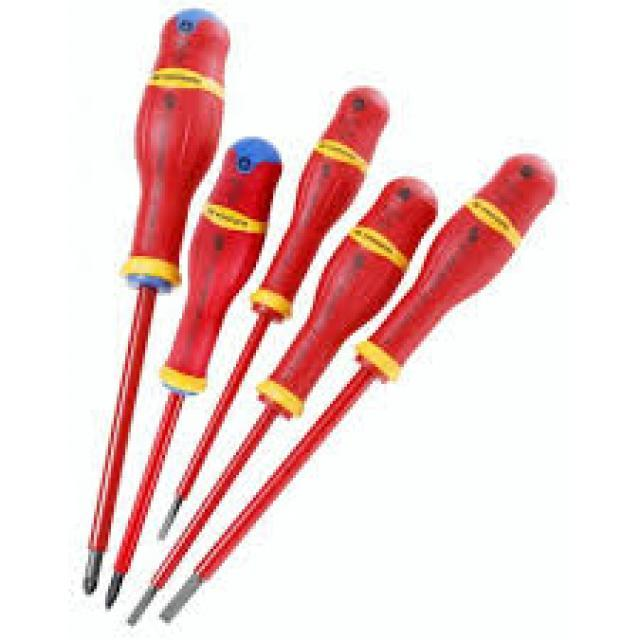screwdriver: (160, 150, 574, 624), (122, 174, 441, 628), (154, 84, 392, 545), (74, 6, 234, 600), (98, 127, 289, 616)
